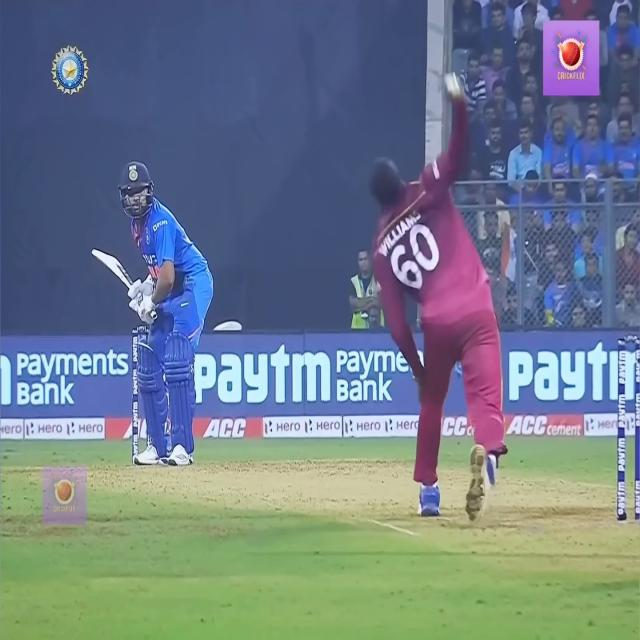fully_visible: (192, 342, 333, 406)
partially_visible: (508, 342, 640, 402)
